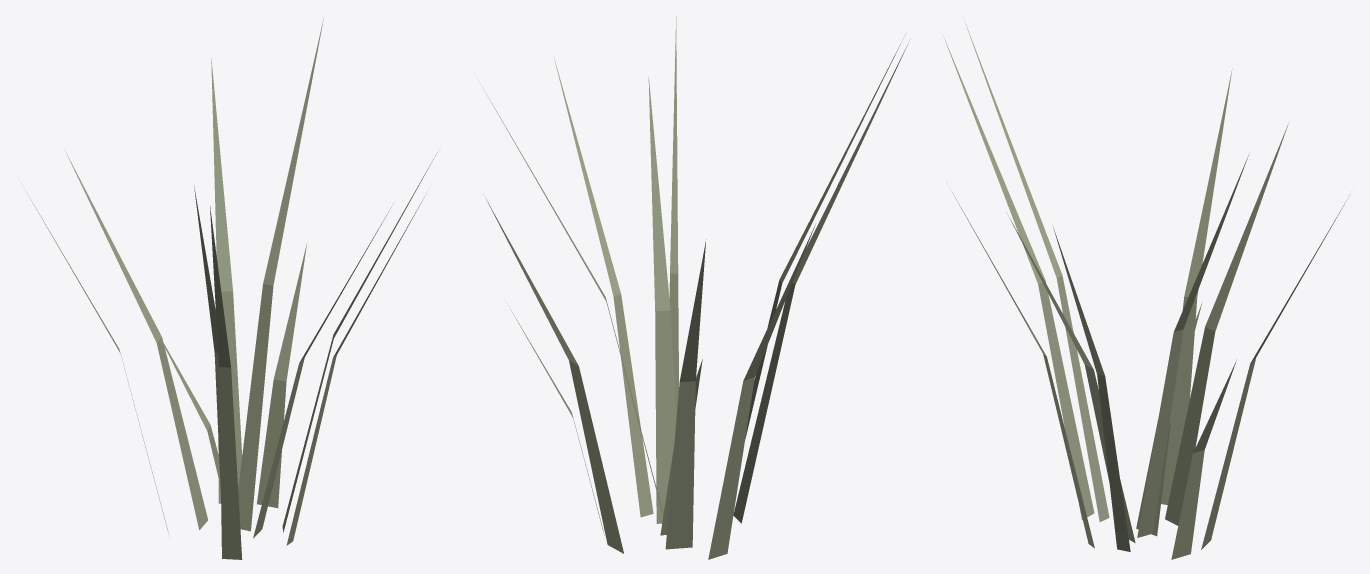
File: AE_Grass_3_3.fbx
The picture shows the model from 3 angles, left to right: view 1: azimuth 30°, elevation 25°; view 2: azimuth 150°, elevation 25°; view 3: azimuth 270°, elevation 25°; orthographic projection. The views are drawn at different scales.
Parts seen in each view (by area): view 1: AE_Grass_3_3_LOD0; view 2: AE_Grass_3_3_LOD0; view 3: AE_Grass_3_3_LOD0.
Boxes of the visible parts, left/top/right/bottom form: AE_Grass_3_3_LOD0: left=24, top=19, right=437, bottom=559; AE_Grass_3_3_LOD0: left=482, top=16, right=910, bottom=559; AE_Grass_3_3_LOD0: left=943, top=20, right=1349, bottom=559.
Size of what is drawn, in the model's own units: 77.2 by 96.71 by 80.14.
